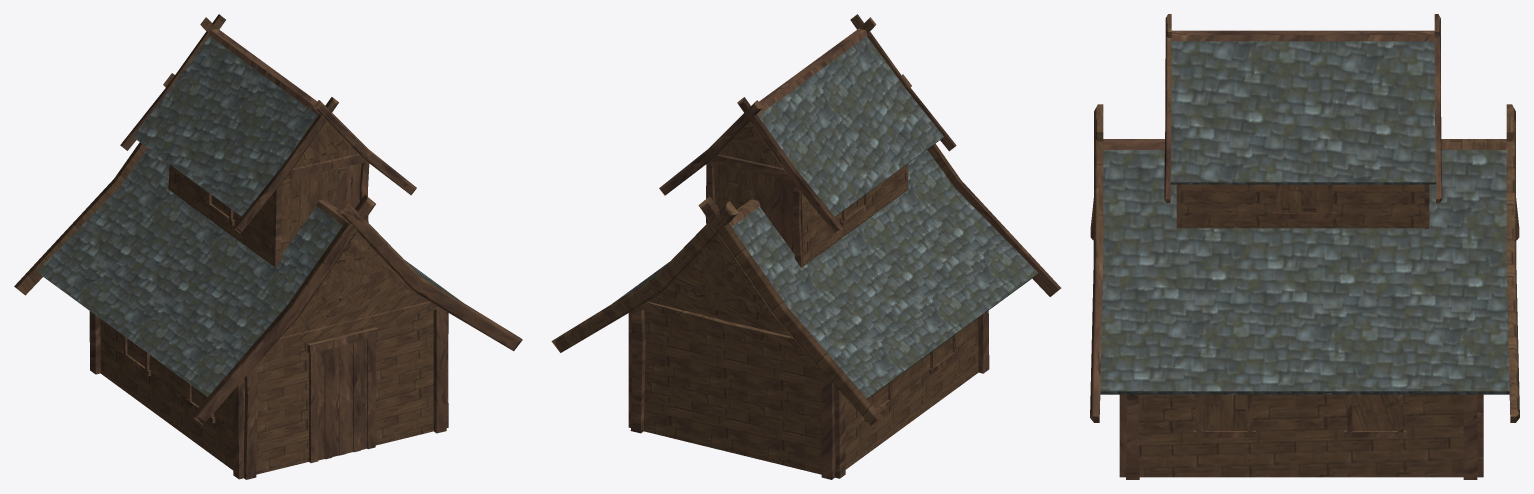
The model's file is Viking_House_2_coloured.fbx.
The picture shows the model from 3 angles, left to right: view 1: azimuth 30°, elevation 25°; view 2: azimuth 150°, elevation 25°; view 3: azimuth 270°, elevation 25°; orthographic projection. The views are drawn at different scales.
Visible parts, largest first — view 1: Viking_House_2; view 2: Viking_House_2; view 3: Viking_House_2.
Boxes of the visible parts, left/top/right/bottom form: Viking_House_2: left=14, top=14, right=522, bottom=479; Viking_House_2: left=551, top=14, right=1061, bottom=479; Viking_House_2: left=1090, top=14, right=1519, bottom=479.
Bounding box in the file's own units: 6.58 × 6.5 × 6.29.
